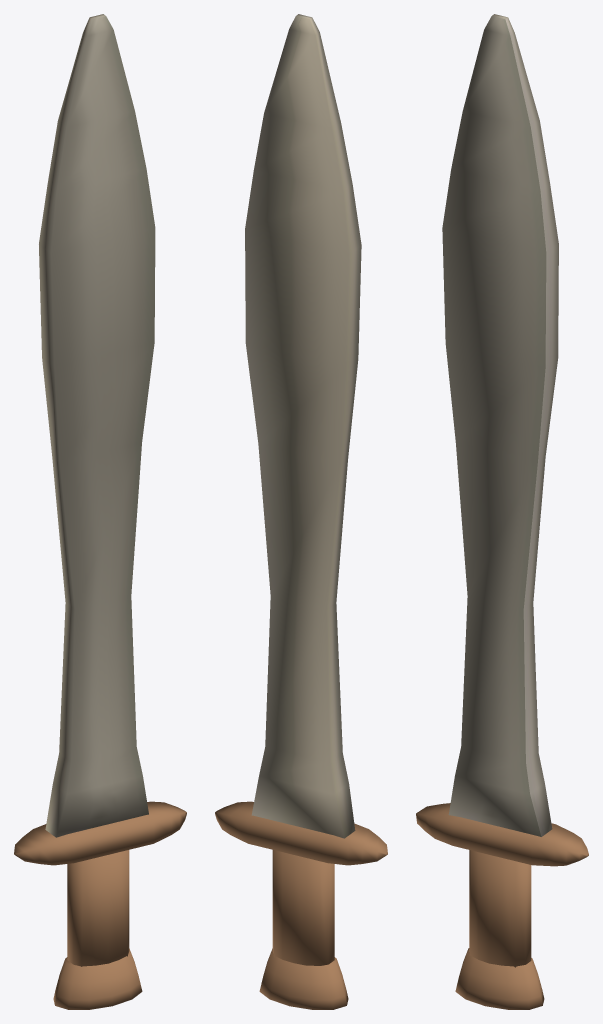
File: Espada.fbx
3 renders of one model, left to right at view 1: azimuth 30°, elevation 25°; view 2: azimuth 150°, elevation 25°; view 3: azimuth 330°, elevation 25°, orthographic.
Visible parts, largest first — view 1: Espada; view 2: Espada; view 3: Espada.
Part boxes in pixels (x1,y1,x2,y2): Espada: (14,14,186,1009); Espada: (215,14,387,1009); Espada: (416,14,588,1009).
Size of the model in its own units: 15.35 by 83.85 by 4.58.
2 materials, 2 textured.
